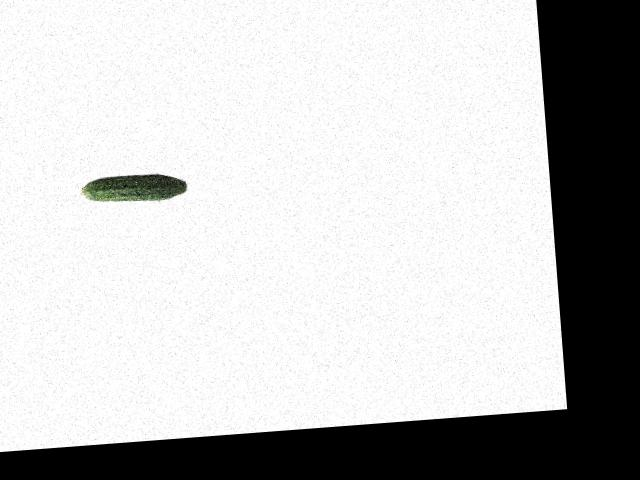cucumber: (80, 171, 188, 205)
